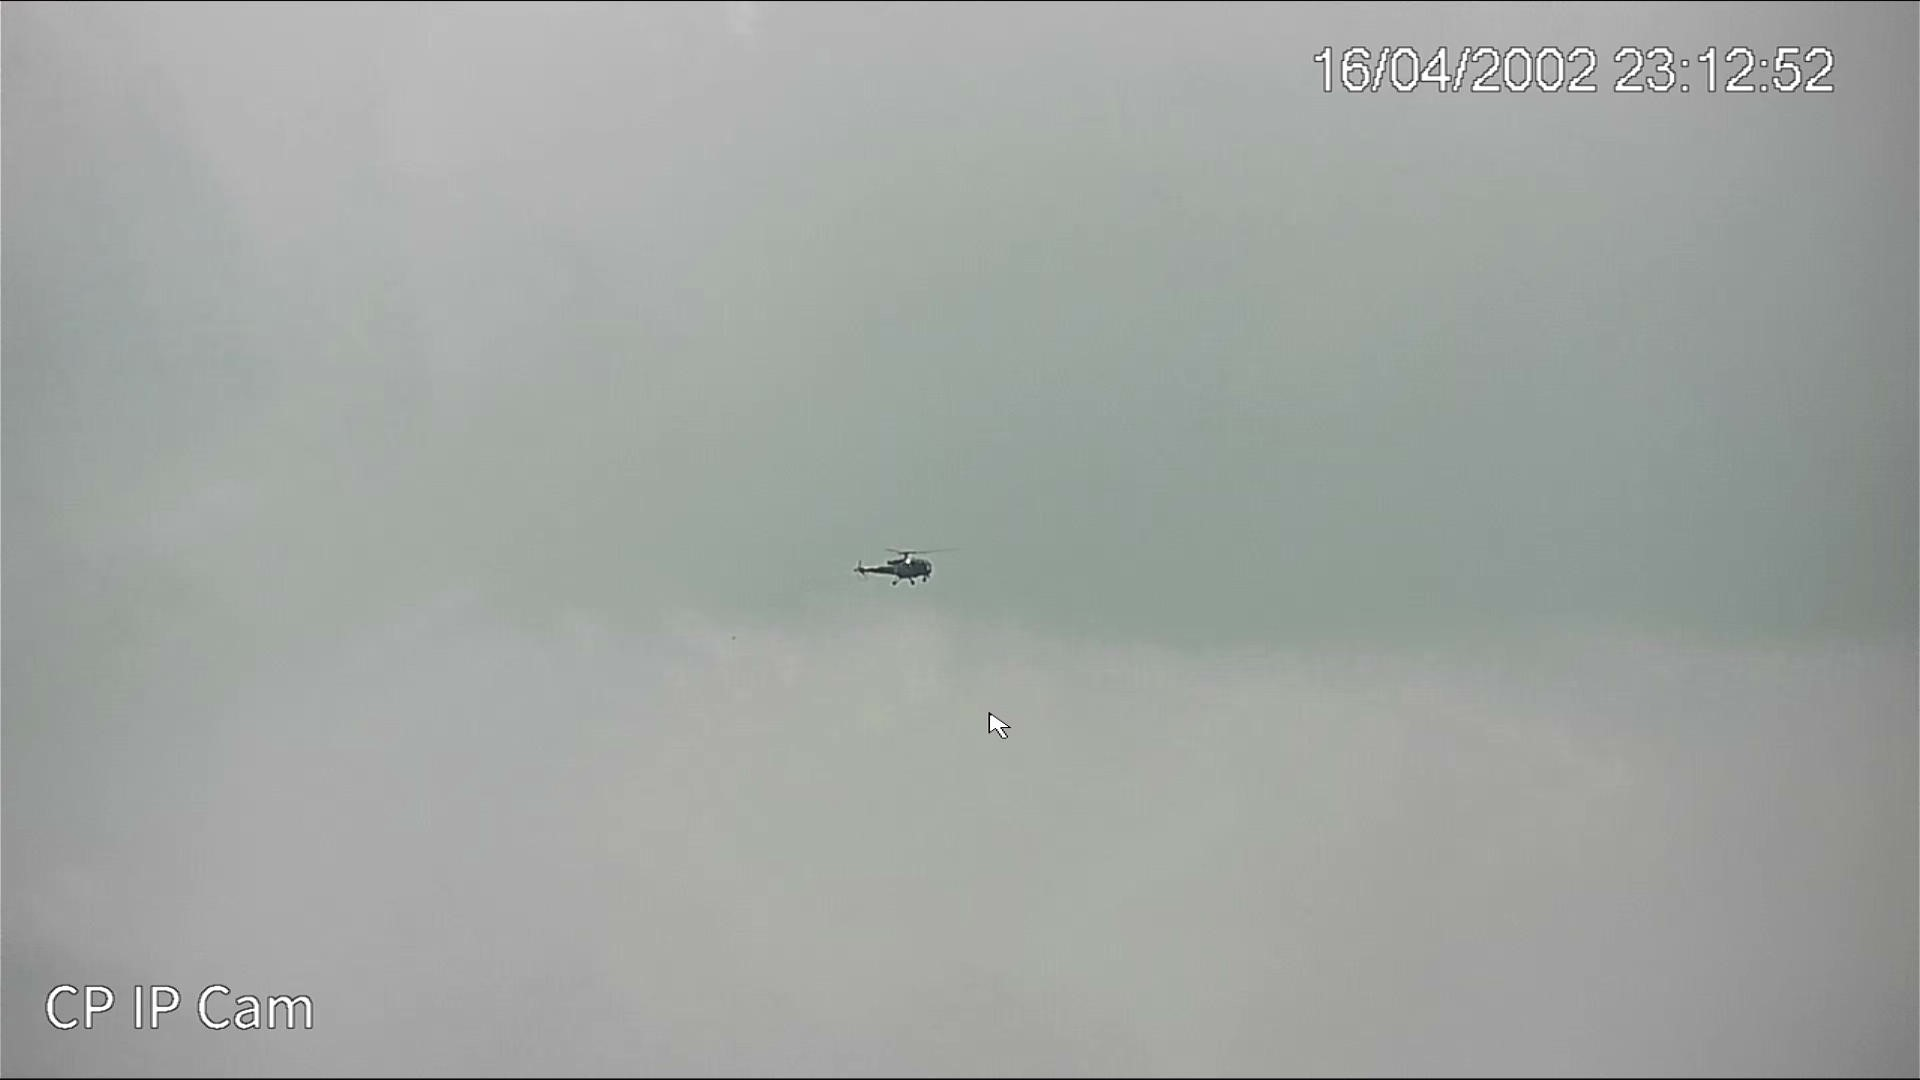SU_30: (855, 549, 939, 582)
